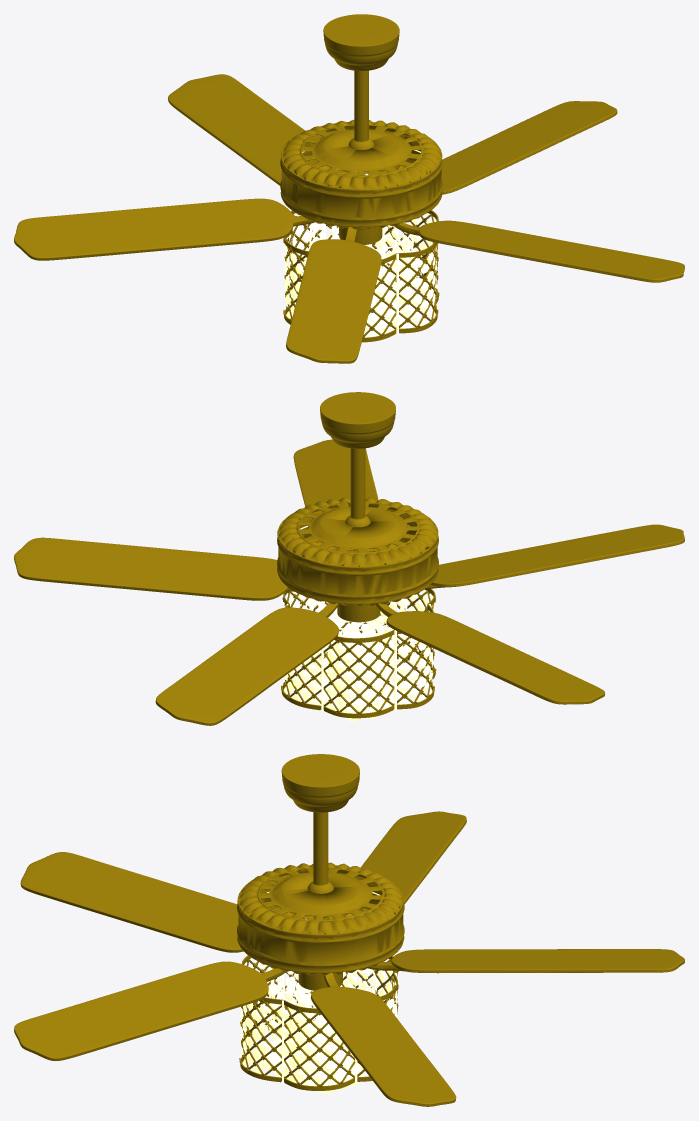
Rendered from celling_lights_v.001.glb.
The picture shows the model from 3 angles, top to bottom: view 1: azimuth 30°, elevation 25°; view 2: azimuth 150°, elevation 25°; view 3: azimuth 270°, elevation 25°; orthographic projection. The views are drawn at different scales.
Visible parts, largest first — view 1: Material2 (×2), Material3 (×3); view 2: Material2 (×2), Material3 (×3); view 3: Material2 (×2), Material3 (×3).
Part boxes in pixels (bbox=[...]): Material2 (×2): bbox=[14, 14, 684, 363]; Material3 (×3): bbox=[284, 218, 438, 341]; Material2 (×2): bbox=[14, 392, 684, 725]; Material3 (×3): bbox=[283, 594, 434, 721]; Material2 (×2): bbox=[14, 754, 684, 1106]; Material3 (×3): bbox=[240, 962, 398, 1093].
Size of the model in its own units: 52.05 by 26.55 by 50.33.
